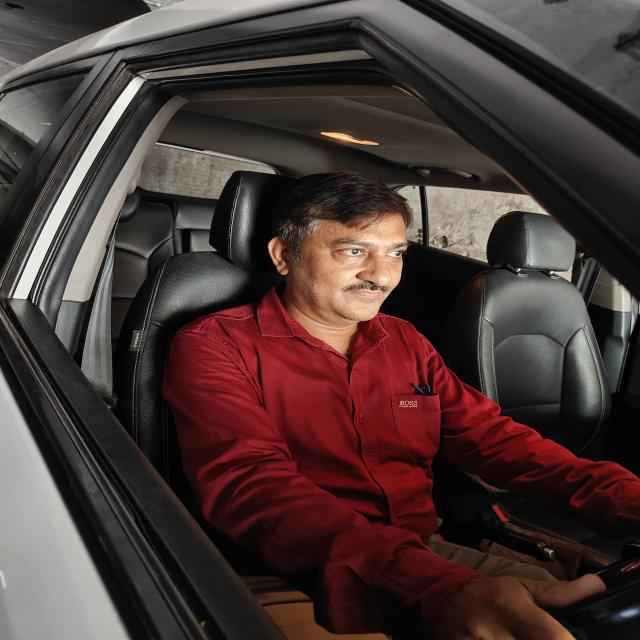no-seatbelt: (129, 276, 480, 545)
